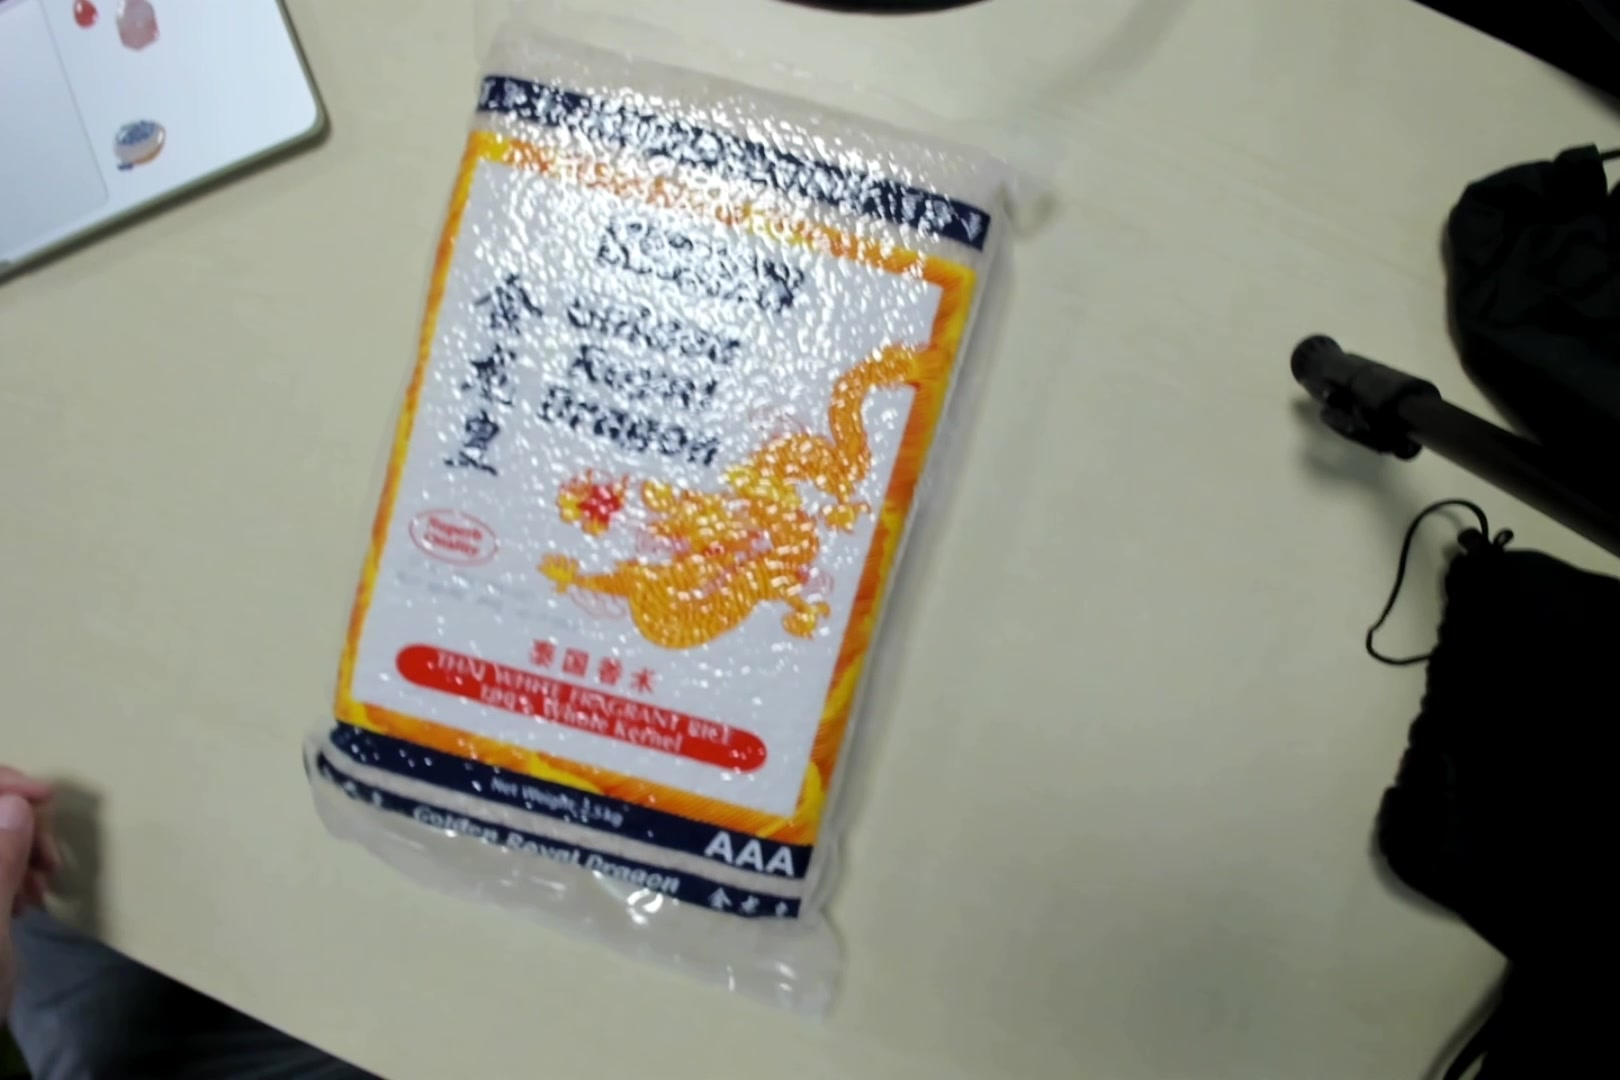Rice(White)_2000-2999g_NonHalal_NonHealthy: (337, 27, 1025, 976)
